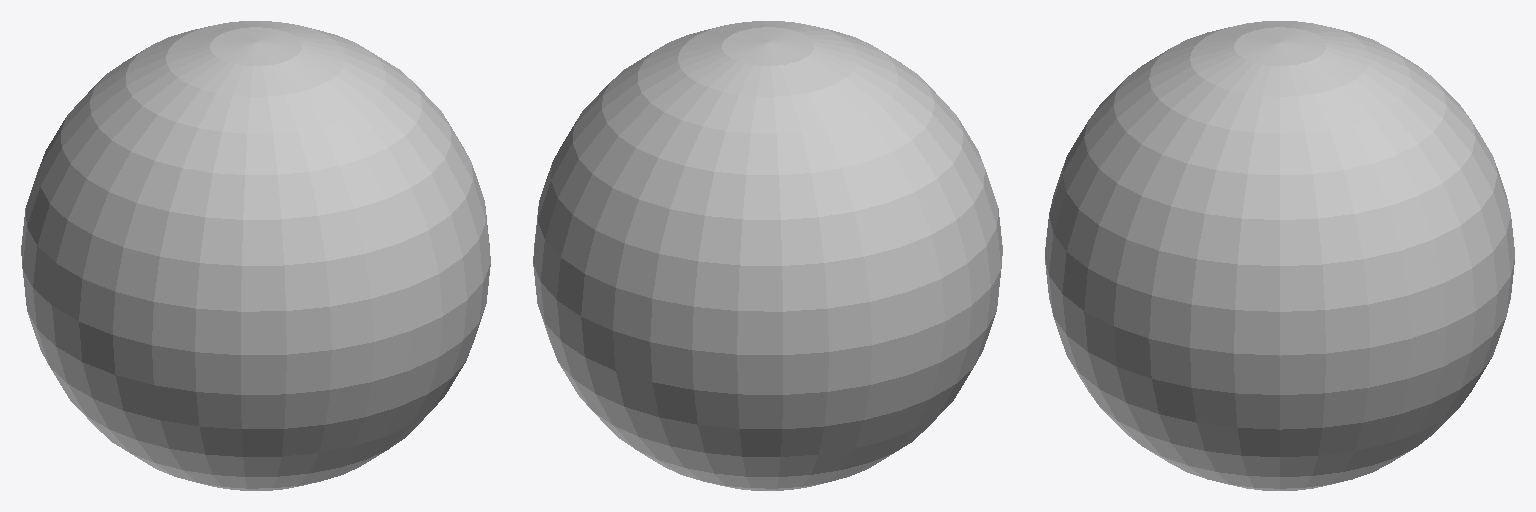
File: neptune.obj
3 renders of one model, left to right at view 1: azimuth 30°, elevation 25°; view 2: azimuth 150°, elevation 25°; view 3: azimuth 270°, elevation 25°, orthographic.
Parts seen in each view (by area): view 1: Сфера; view 2: Сфера; view 3: Сфера.
Part boxes in pixels (bbox=[...]): Сфера: bbox=[21, 21, 490, 490]; Сфера: bbox=[533, 21, 1002, 490]; Сфера: bbox=[1045, 21, 1514, 490].
Bounding box in the file's own units: 1.01 × 1.01 × 1.01.